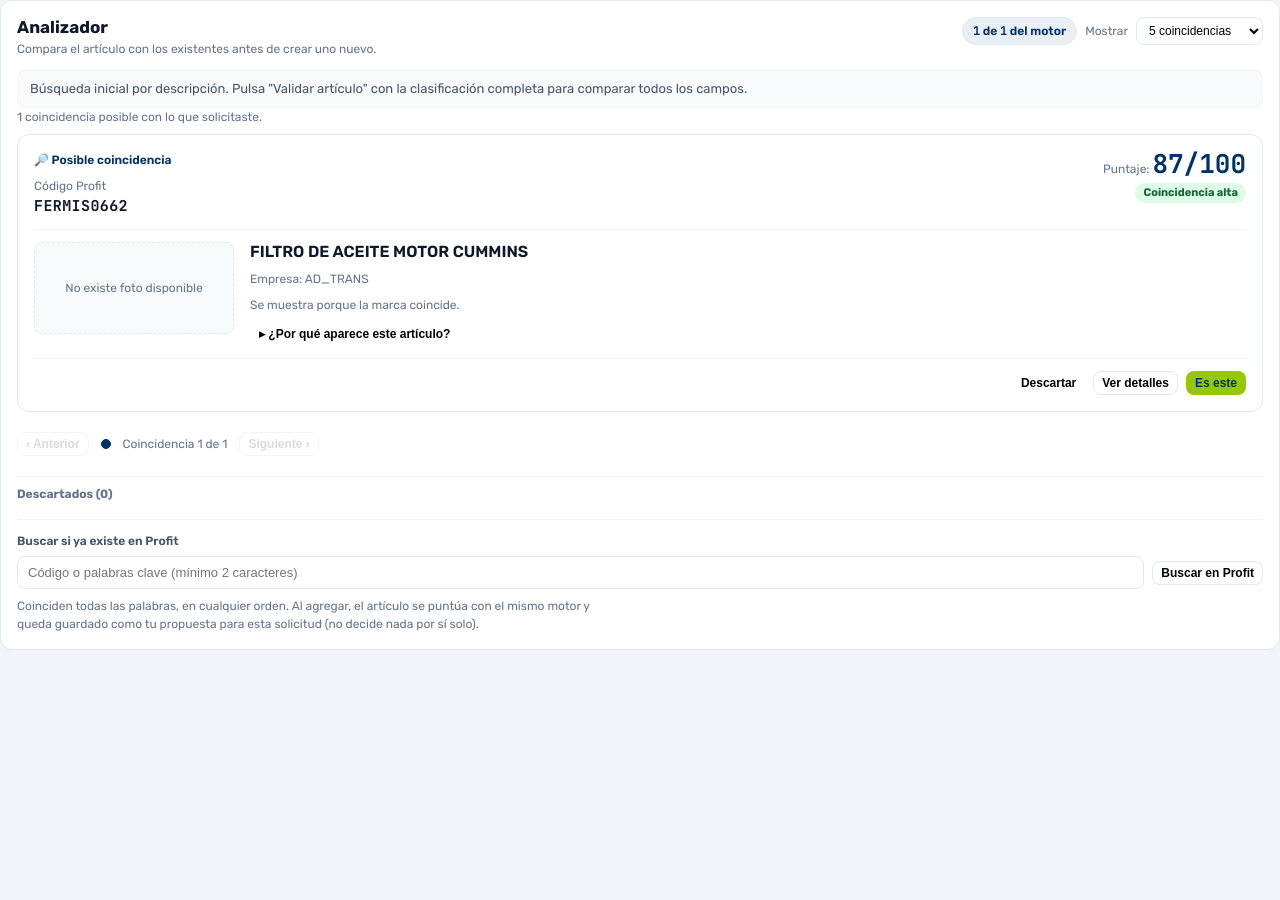
Scenario: Analizador › 9-10: candidatos ordenados con foto o aviso, evidencias colapsadas
The width and height of the screenshot is (1280, 900).
Expected: the text "FERMIS0662" is shown, [34, 196, 128, 216]
Expected: the text "FILTRO DE ACEITE MOTOR CUMMINS" is shown, [250, 242, 528, 261]
Click the button "▸ ¿Por qué aparece este artículo?". click: (355,334)
box: [250, 322, 459, 346]
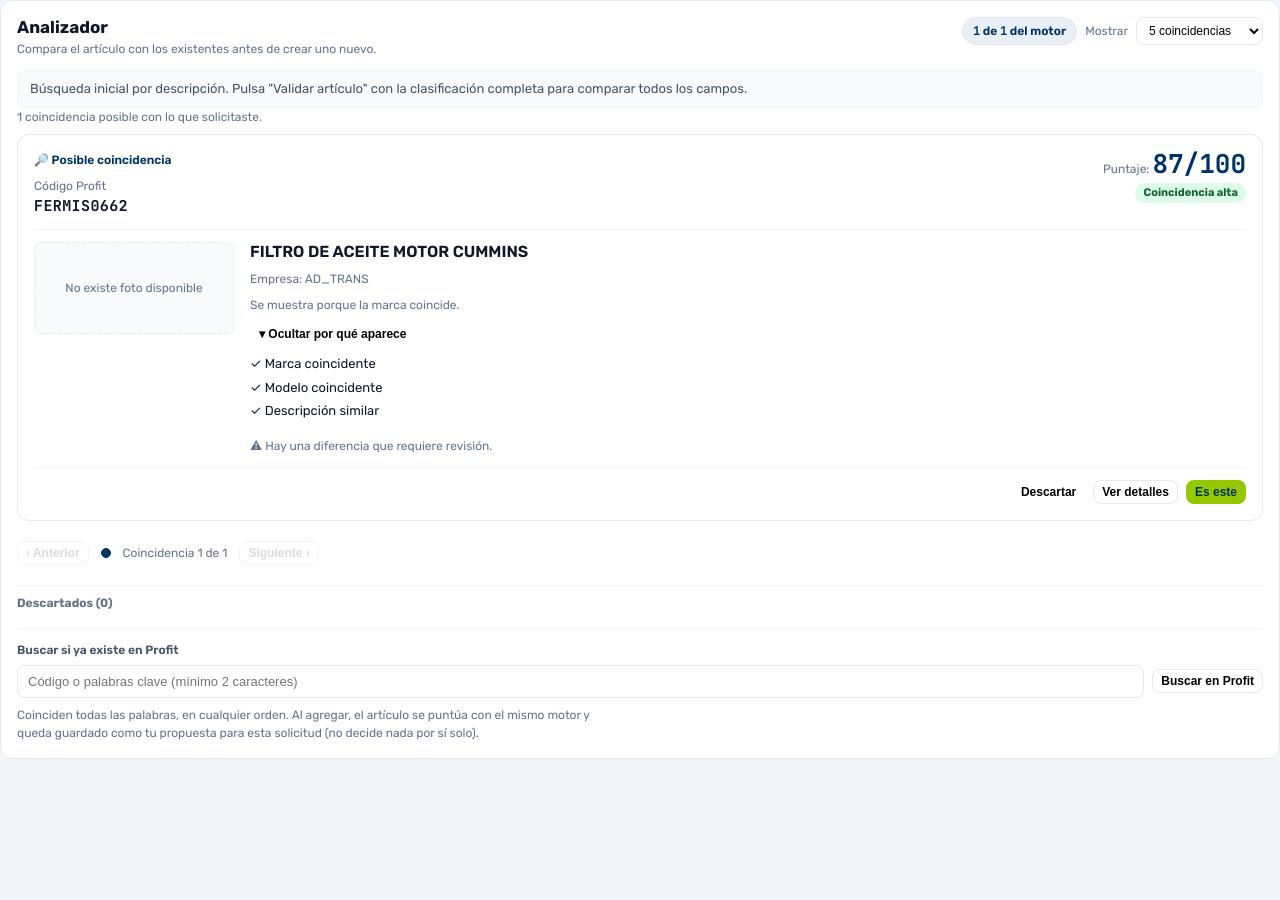
Result: the list item "Marca coincidente" is shown at [265, 356, 376, 371]
Result: the text "⚠ Hay una diferencia que requiere revisión." is shown at [250, 439, 492, 453]
